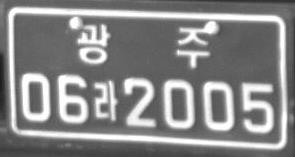0: (201, 79, 236, 132), (162, 77, 196, 131), (20, 71, 51, 122)
2: (122, 75, 157, 128)
5: (240, 80, 275, 134)
6: (56, 73, 90, 124)
광주_D: (75, 22, 211, 69)
라: (92, 79, 117, 121)
